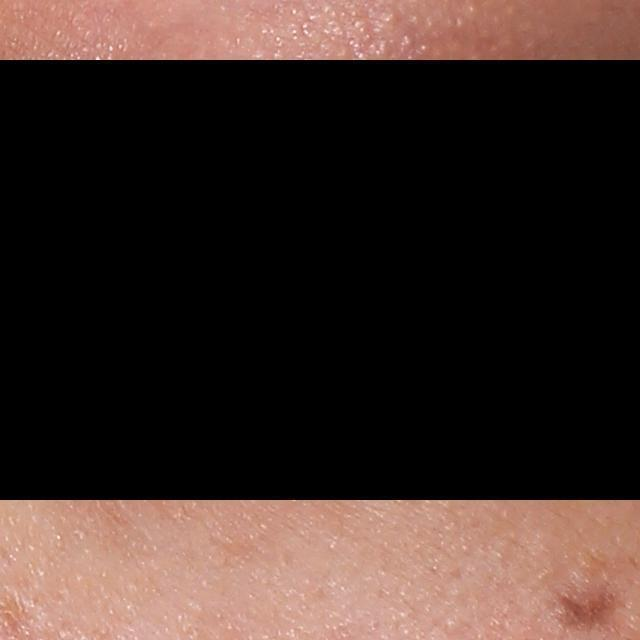melasma: (538, 575, 629, 629)
